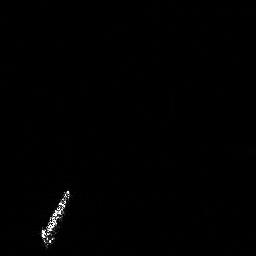ship: (40, 188, 71, 250)
